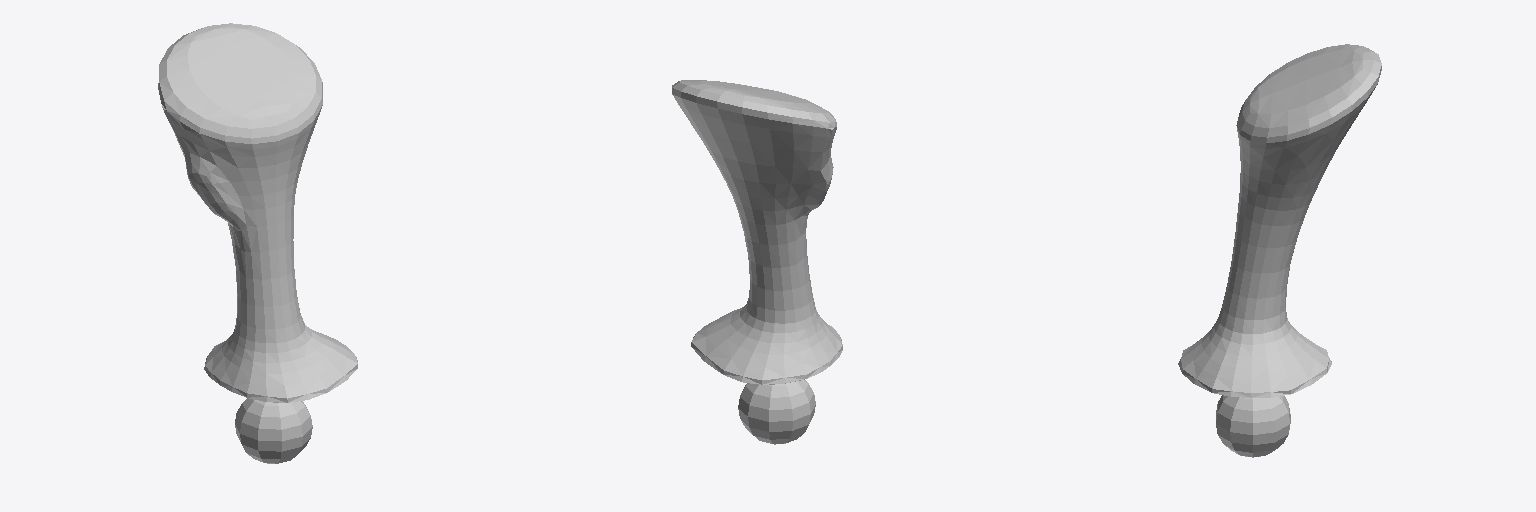
Rendered from Joystick.obj.
3 renders of one model, left to right at view 1: azimuth 30°, elevation 25°; view 2: azimuth 150°, elevation 25°; view 3: azimuth 270°, elevation 25°, orthographic.
Parts seen in each view (by area): view 1: Joystick; view 2: Joystick; view 3: Joystick.
Boxes of the visible parts, x1=… form: Joystick: x1=158, y1=23, x2=357, y2=463; Joystick: x1=672, y1=80, x2=842, y2=444; Joystick: x1=1178, y1=44, x2=1381, y2=457.
Bounding box in the file's own units: 3.56 × 8.46 × 3.98.